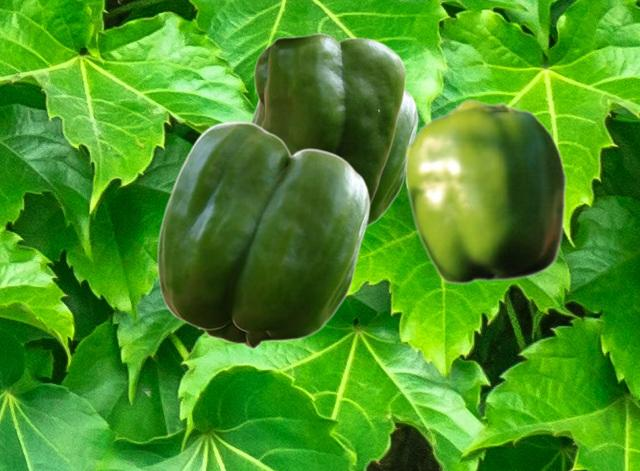bell_pepper: (156, 120, 369, 348), (404, 98, 566, 284), (253, 32, 406, 207), (250, 87, 417, 226)
